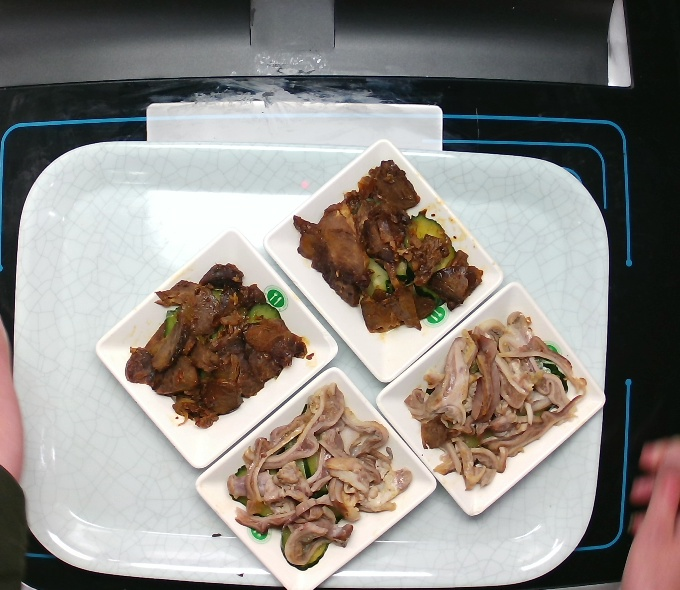wcq-JiangNiuRou: (285, 154, 487, 342), (121, 258, 321, 436)
wcq-ZhuDu: (223, 380, 414, 572), (401, 307, 592, 495)
